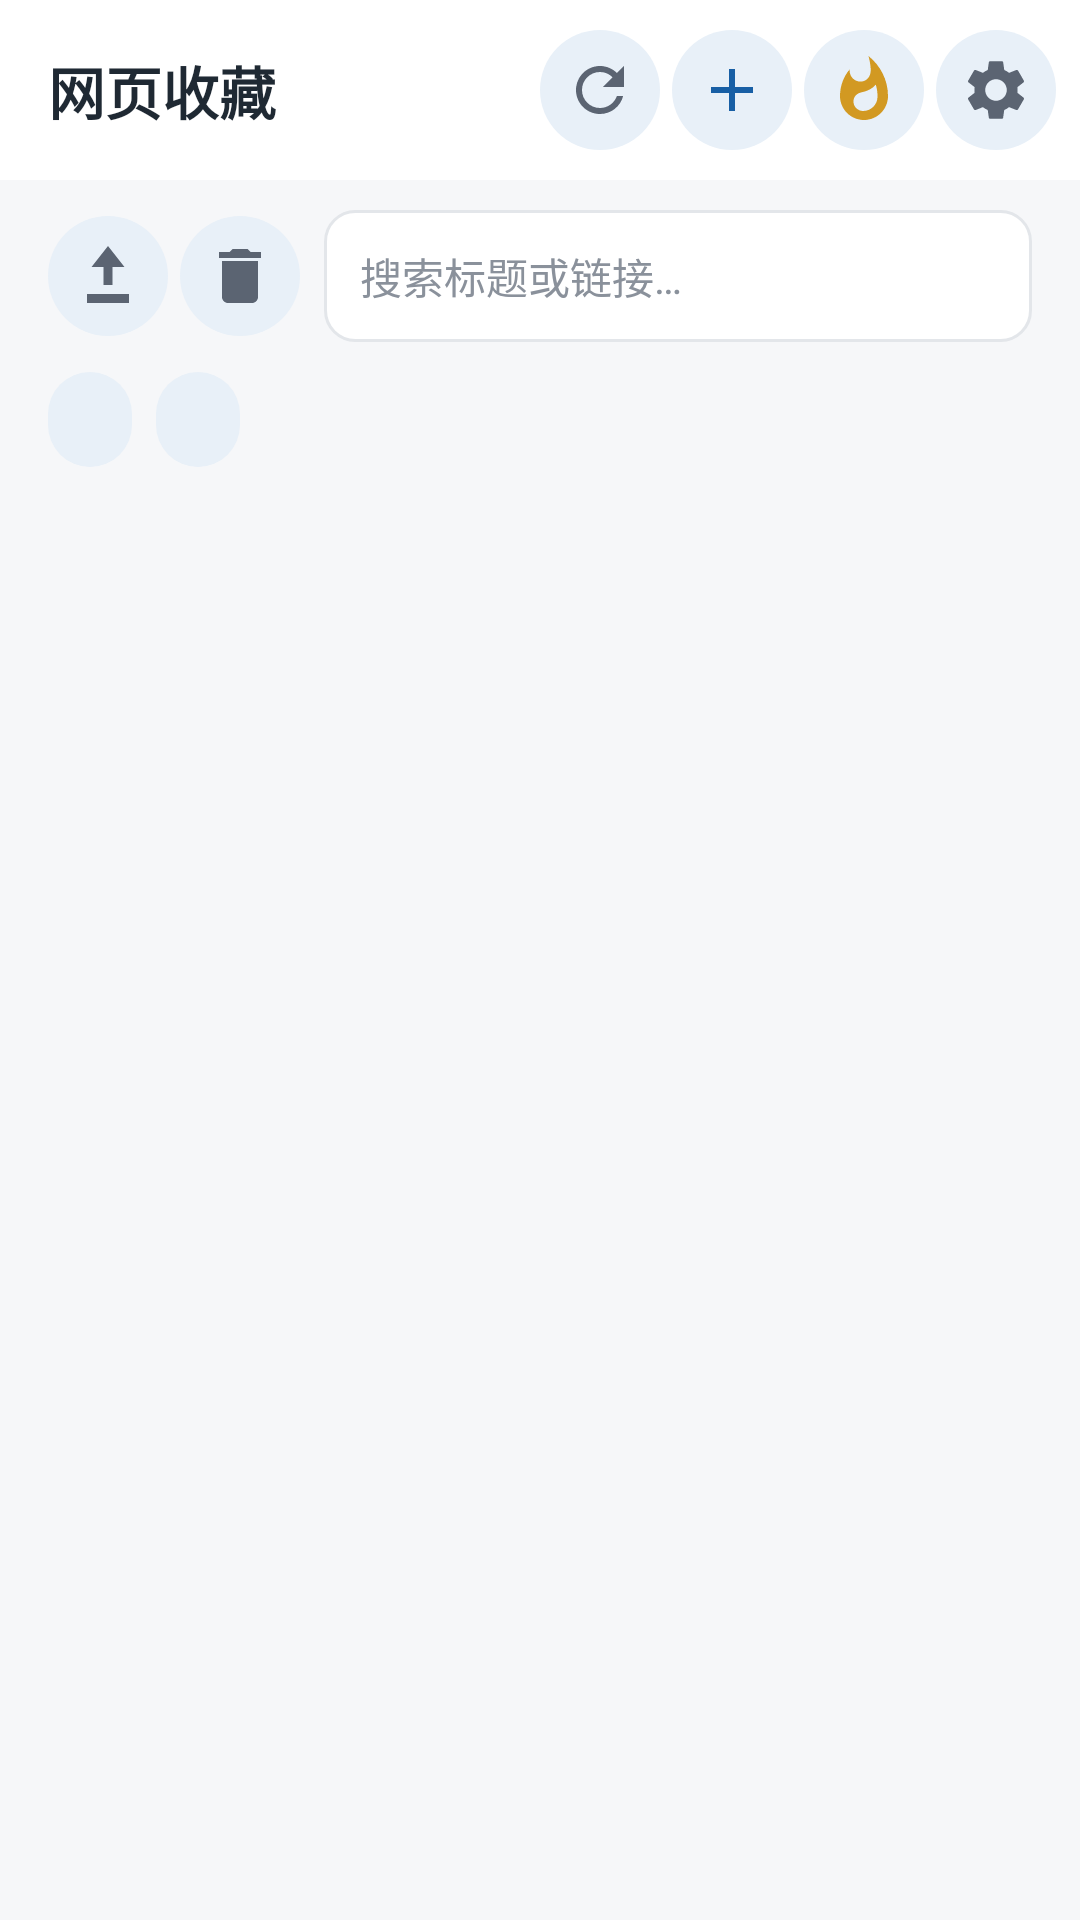

Screen size 1080w x 1920h. Icon name, then its center in pixels as (x=x, y=y):
保存文章: (x=732, y=90)
删除全部收藏: (x=240, y=276)
热榜: (x=864, y=88)
设置: (x=996, y=90)
